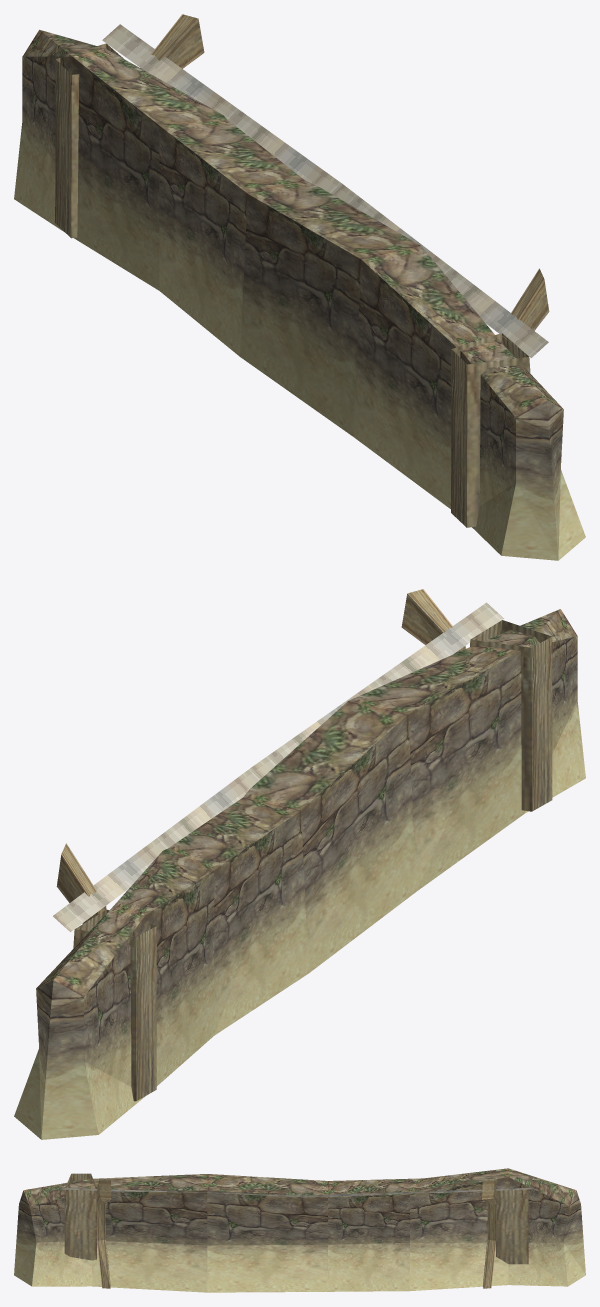
The model's file is C3SMHANGERRIGHT.obj.
3 renders of one model, top to bottom at view 1: azimuth 30°, elevation 25°; view 2: azimuth 150°, elevation 25°; view 3: azimuth 270°, elevation 25°, orthographic. The views are drawn at different scales.
Visible parts, largest first — view 1: Node 0; view 2: Node 0; view 3: Node 0.
Part boxes in pixels (x1,y1,x2,y2): Node 0: (14,14,585,560); Node 0: (14,589,585,1139); Node 0: (14,1168,585,1292).
Size of the model in its own units: 3.04 by 5.38 by 24.2.
3 materials, 3 textured.
